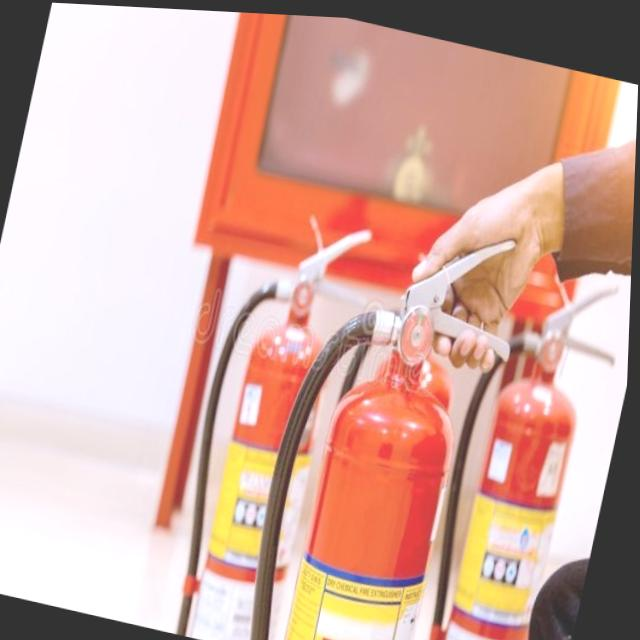FireExtinguisher: (234, 182, 541, 640), (155, 186, 377, 640), (409, 241, 633, 640)
